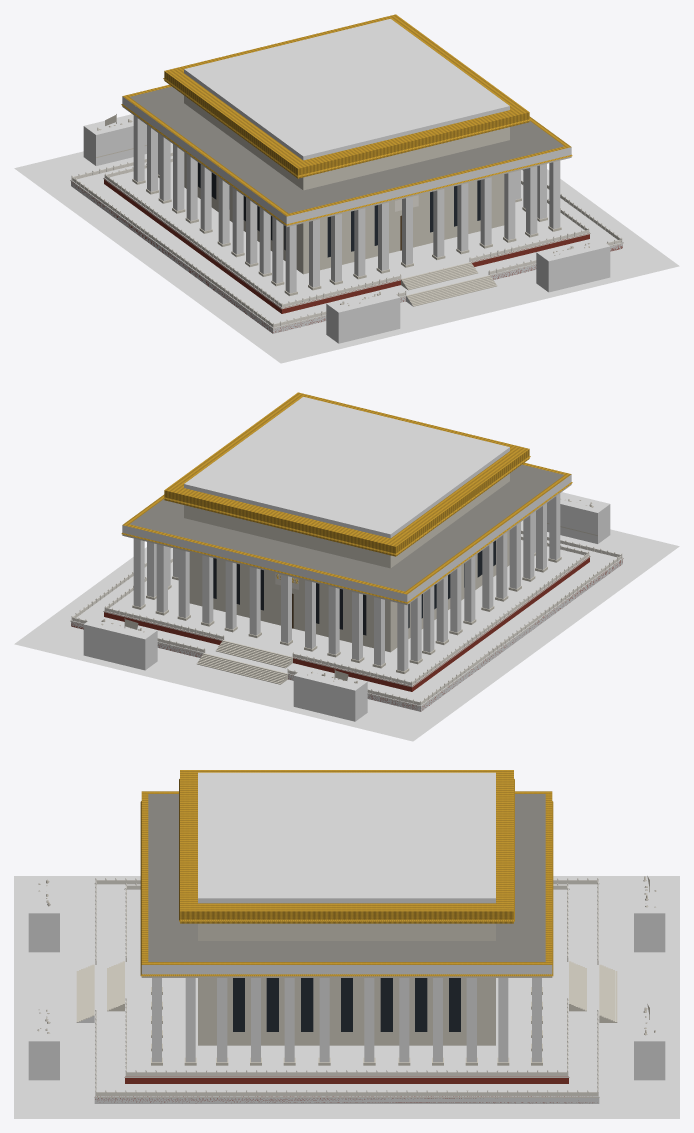
File: mausoleum.glb
3 renders of one model, top to bottom at view 1: azimuth 30°, elevation 25°; view 2: azimuth 150°, elevation 25°; view 3: azimuth 270°, elevation 25°, orthographic. The views are drawn at different scales.
Visible parts, largest first — view 1: COL_core, Massing, Hall, CLEAR_hall, COL_tier44, COL_tier50, FOOTPRINT_hall, COL_lowereave, COL_group3, COL_group2, COL_group0, COL_col30 (+23 smaller); view 2: COL_core, Massing, Hall, CLEAR_hall, COL_tier44, COL_tier50, COL_lowereave, FOOTPRINT_hall, COL_group1, COL_group0, COL_group2, COL_col31 (+23 smaller); view 3: COL_core, Hall, Massing, CLEAR_hall, COL_tier44, COL_tier50, FOOTPRINT_hall, COL_lowereave, COL_group3, COL_group1, COL_group2, COL_group0 (+12 smaller).
Part boxes in pixels (x1=…): COL_core: x1=184, y1=19, x2=509, y2=160; Massing: x1=73, y1=14, x2=622, y2=332; Hall: x1=70, y1=78, x2=623, y2=328; CLEAR_hall: x1=14, y1=142, x2=679, y2=363; COL_tier44: x1=104, y1=162, x2=589, y2=307; COL_tier50: x1=71, y1=156, x2=622, y2=333; FOOTPRINT_hall: x1=50, y1=178, x2=644, y2=342; COL_lowereave: x1=122, y1=96, x2=571, y2=223; COL_group3: x1=536, y1=237, x2=610, y2=292; COL_group2: x1=326, y1=288, x2=400, y2=343; COL_group0: x1=83, y1=114, x2=146, y2=165; COL_col30: x1=526, y1=166, x2=537, y2=234; COL_core: x1=184, y1=397, x2=509, y2=538; Massing: x1=71, y1=392, x2=622, y2=710; Hall: x1=70, y1=456, x2=623, y2=706; CLEAR_hall: x1=14, y1=520, x2=679, y2=741; COL_tier44: x1=104, y1=540, x2=589, y2=685; COL_tier50: x1=71, y1=534, x2=622, y2=711; COL_lowereave: x1=122, y1=474, x2=571, y2=601; FOOTPRINT_hall: x1=51, y1=557, x2=643, y2=720; COL_group1: x1=83, y1=615, x2=157, y2=670; COL_group0: x1=293, y1=666, x2=367, y2=721; COL_group2: x1=547, y1=492, x2=610, y2=543; COL_col31: x1=156, y1=544, x2=167, y2=612; COL_core: x1=198, y1=772, x2=495, y2=903; Hall: x1=76, y1=779, x2=617, y2=1097; Massing: x1=95, y1=770, x2=592, y2=1102; CLEAR_hall: x1=14, y1=876, x2=679, y2=1118; COL_tier44: x1=125, y1=889, x2=568, y2=1076; COL_tier50: x1=94, y1=884, x2=599, y2=1103; FOOTPRINT_hall: x1=74, y1=882, x2=619, y2=1112; COL_lowereave: x1=141, y1=965, x2=552, y2=974; COL_group3: x1=28, y1=1003, x2=59, y2=1080; COL_group1: x1=634, y1=1003, x2=665, y2=1080; COL_group2: x1=28, y1=876, x2=59, y2=952; COL_group0: x1=634, y1=876, x2=665, y2=952.
Size of the model in its own units: 114 by 35.4 by 132.
Materials: 11 (2 with a texture image).
